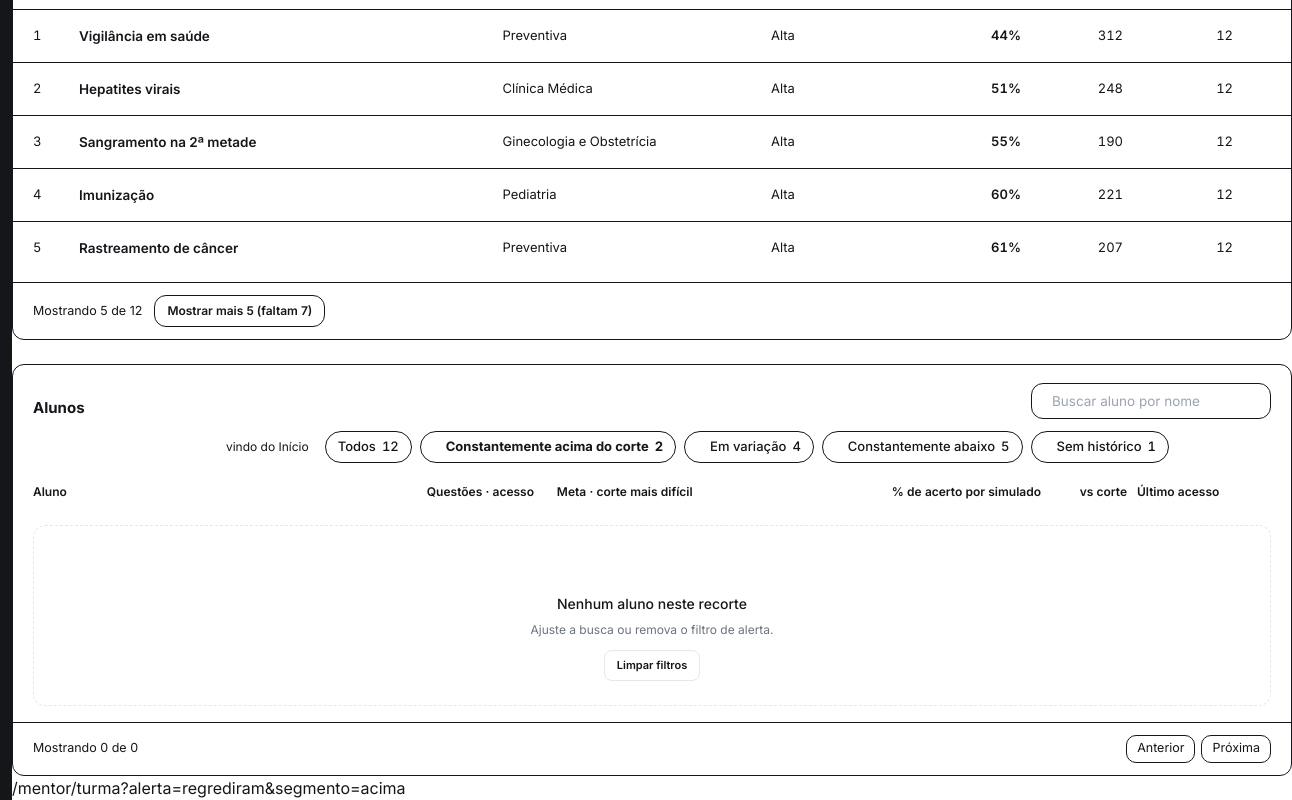
Test: Minha Turma · com simulados › busca sem resultado mostra o vazio com Limpar filtros, que zera alerta, segmento e busca
(page scrolled)
Type "zzz" into the search field labelled "Buscar aluno" at {"x": 1155, "y": 401}, box [1052, 391, 1258, 411]
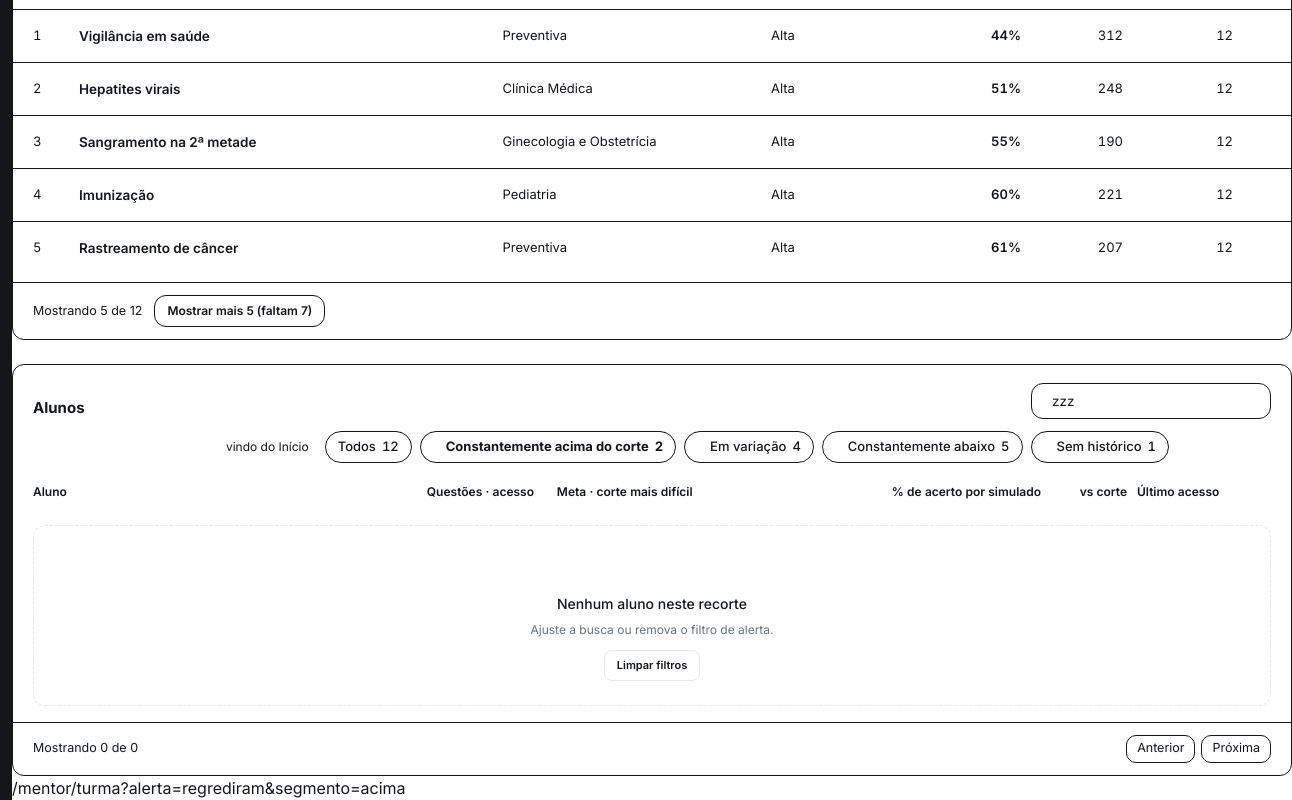
Expected: the text "Nenhum aluno neste recorte" is shown, [557, 594, 747, 614]
Click the button "Limpar filtros" at {"x": 652, "y": 665}, box [604, 650, 700, 680]
(page scrolled)
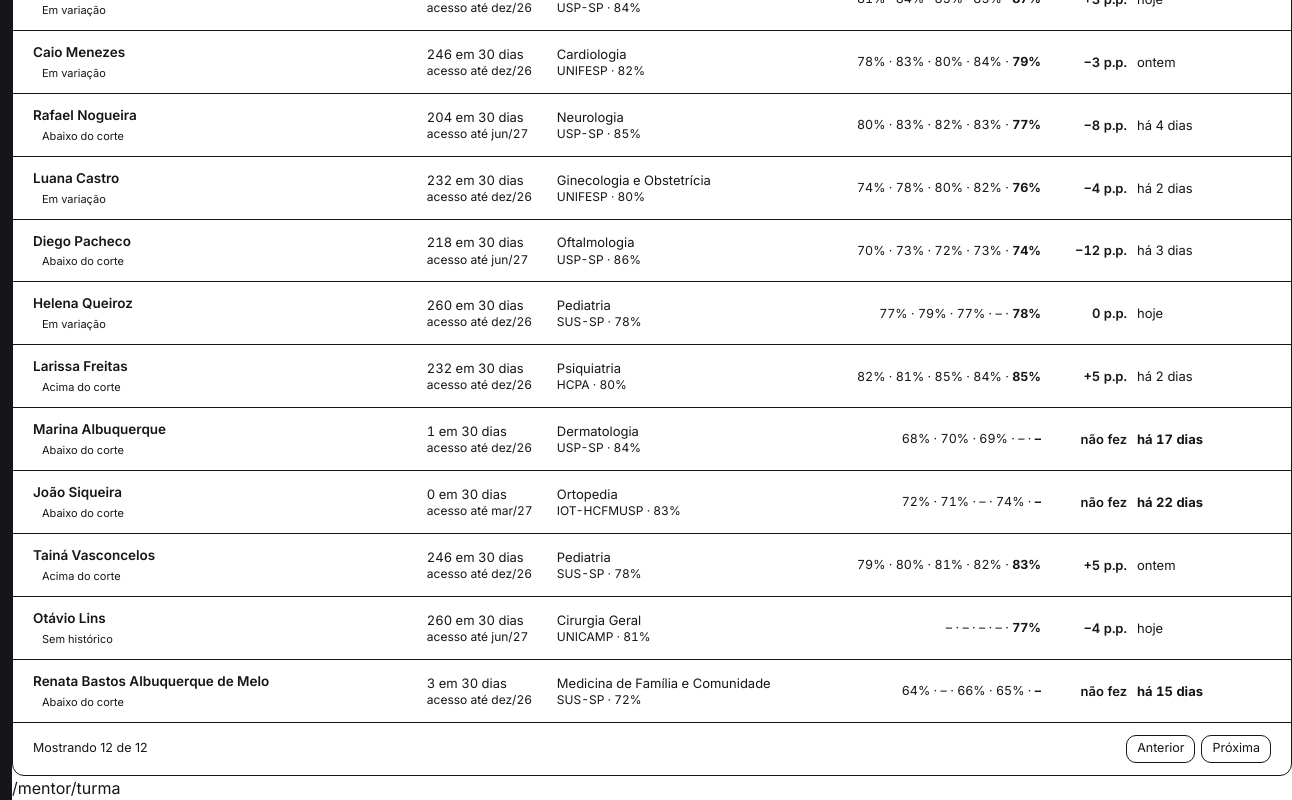
Expected: the text with test id "url" reads "/mentor/turma", [12, 778, 120, 798]
Expected: the text "Mostrando 12 de 12" is shown, [33, 739, 148, 758]
